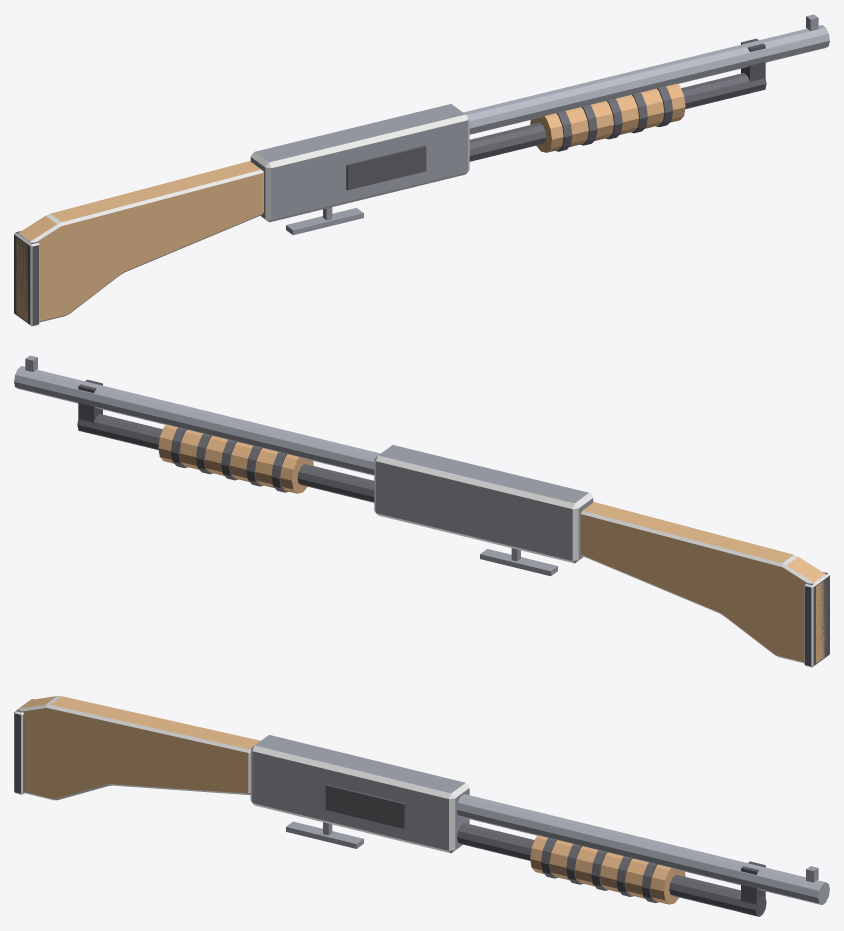
Rendered from district_shop_gun_shotgun.glb.
3 renders of one model, top to bottom at view 1: azimuth 30°, elevation 25°; view 2: azimuth 150°, elevation 25°; view 3: azimuth 330°, elevation 25°, orthographic.
Parts seen in each view (by area): view 1: district_shop_gun_shotgun; view 2: district_shop_gun_shotgun; view 3: district_shop_gun_shotgun.
Part boxes in pixels (left/top/right/bottom): district_shop_gun_shotgun: left=14, top=14, right=829, bottom=326; district_shop_gun_shotgun: left=14, top=355, right=829, bottom=667; district_shop_gun_shotgun: left=14, top=696, right=829, bottom=916.
Bounding box in the file's own units: 1.02 × 0.135 × 0.052.
